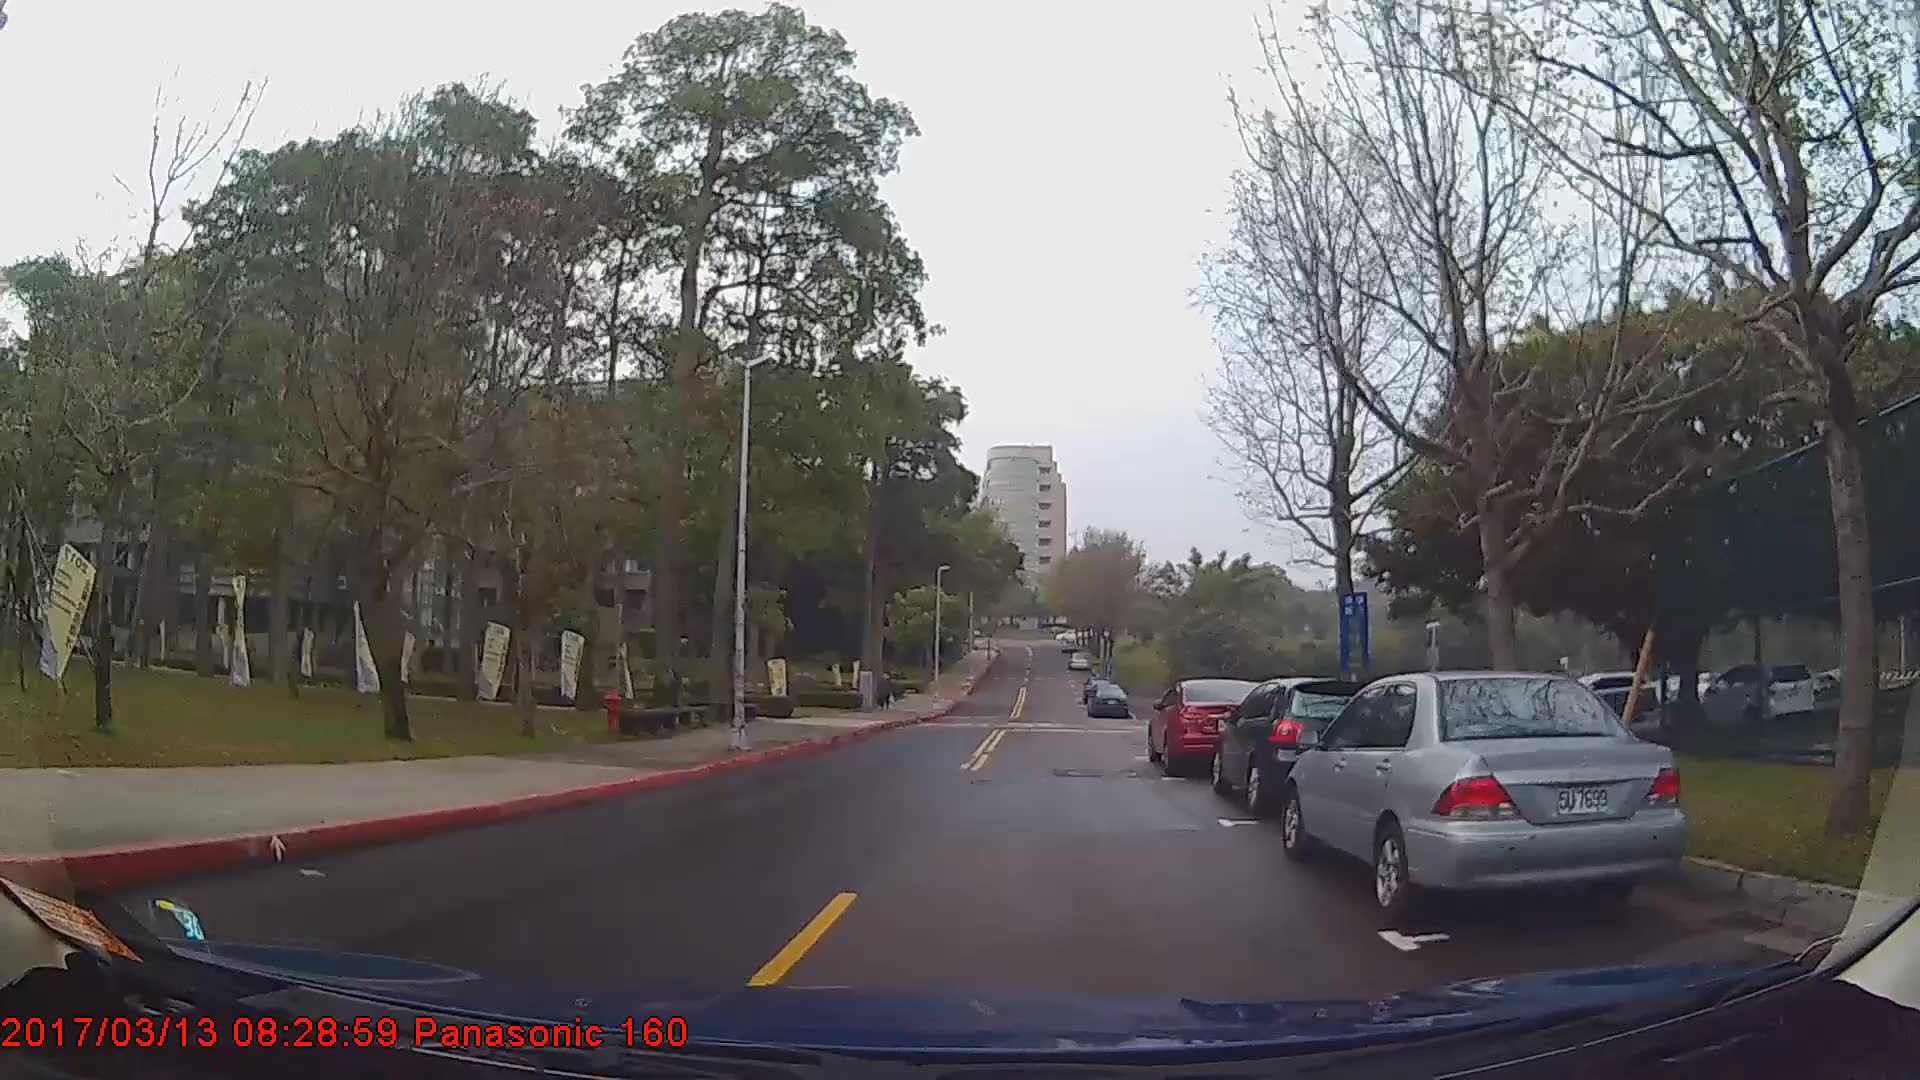vehicle: (1279, 669, 1687, 924), (1207, 676, 1393, 811), (1145, 676, 1273, 781), (1698, 659, 1811, 724), (1531, 669, 1658, 720), (1085, 680, 1127, 719)
